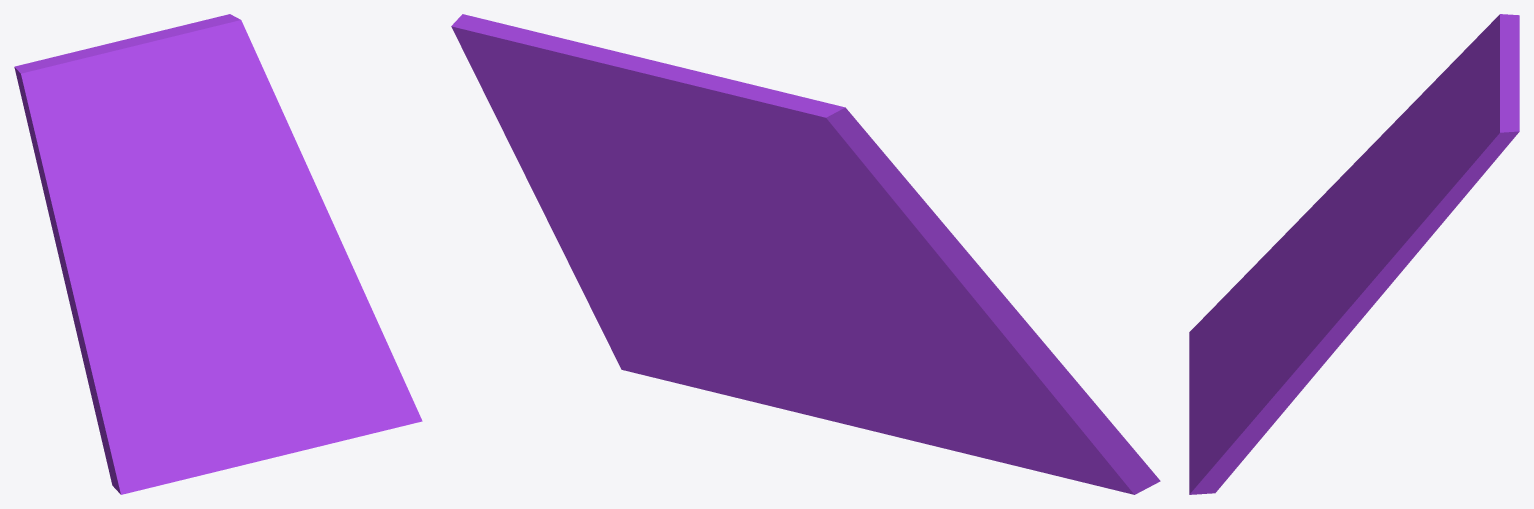
Rendered from Window_90.fbx.
3 views of the same model, side by side, from view 1: azimuth 30°, elevation 25°; view 2: azimuth 150°, elevation 25°; view 3: azimuth 270°, elevation 25° (orthographic). The views are drawn at different scales.
Visible parts, largest first — view 1: Window_90; view 2: Window_90; view 3: Window_90.
Boxes of the visible parts, x1,y1,x2,y2 form: Window_90: (14, 14, 422, 494); Window_90: (451, 14, 1160, 494); Window_90: (1189, 14, 1519, 494).
Bounding box in the file's own units: 969 × 947 × 833.
